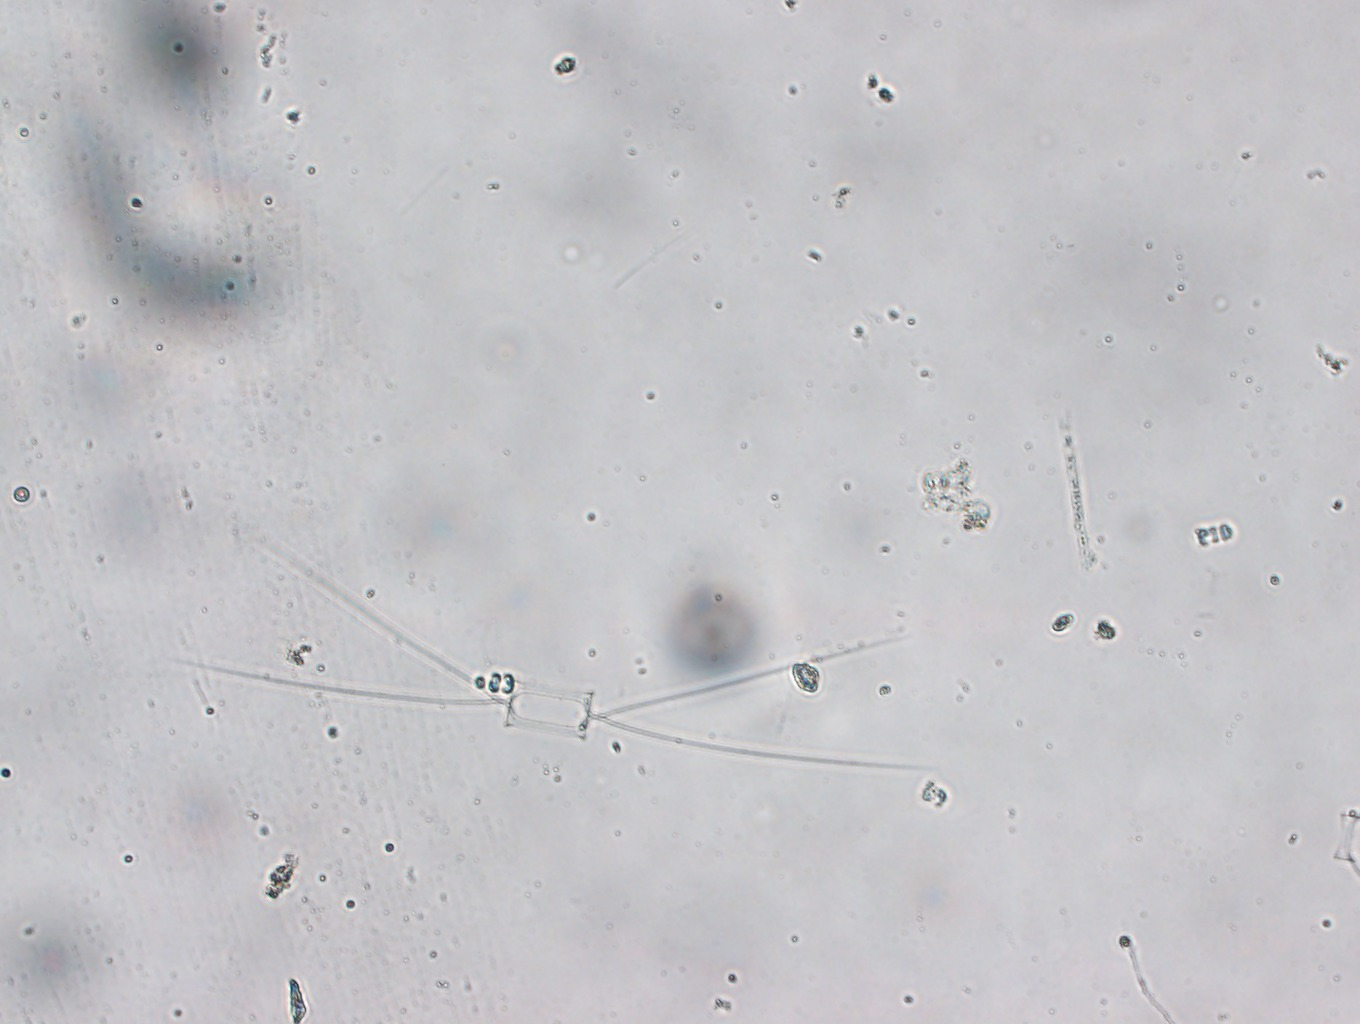chaetoceros: (180, 546, 931, 773)
